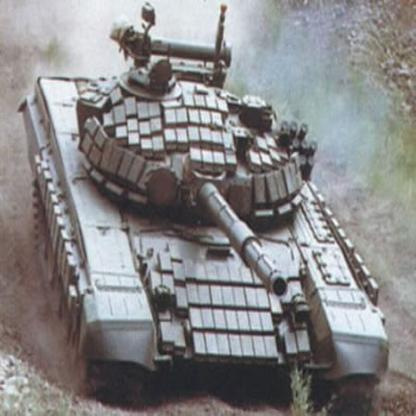Tank: (15, 5, 400, 416)
